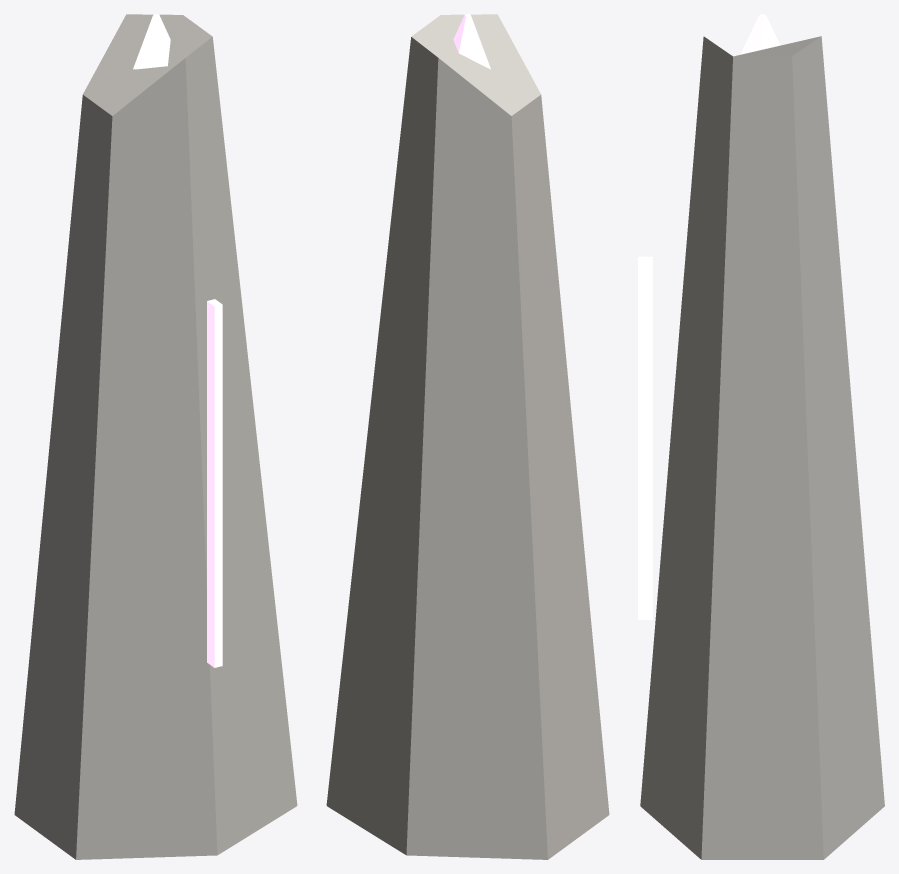
File: monolith.glb
3 views of the same model, side by side, from view 1: azimuth 30°, elevation 25°; view 2: azimuth 150°, elevation 25°; view 3: azimuth 270°, elevation 25° (orthographic).
Parts seen in each view (by area): view 1: monolith, glow, glow.001; view 2: monolith, glow.001; view 3: monolith, glow, glow.001.
Part boxes in pixels (left/top/right/bottom): monolith: left=14, top=14, right=297, bottom=859; glow: left=207, top=299, right=222, bottom=667; glow.001: left=133, top=14, right=170, bottom=69; monolith: left=326, top=14, right=609, bottom=859; glow.001: left=453, top=14, right=490, bottom=69; monolith: left=640, top=36, right=884, bottom=859; glow: left=638, top=256, right=652, bottom=619; glow.001: left=740, top=14, right=780, bottom=54.
Size of the model in its own units: 1.35 by 4.62 by 1.31.
